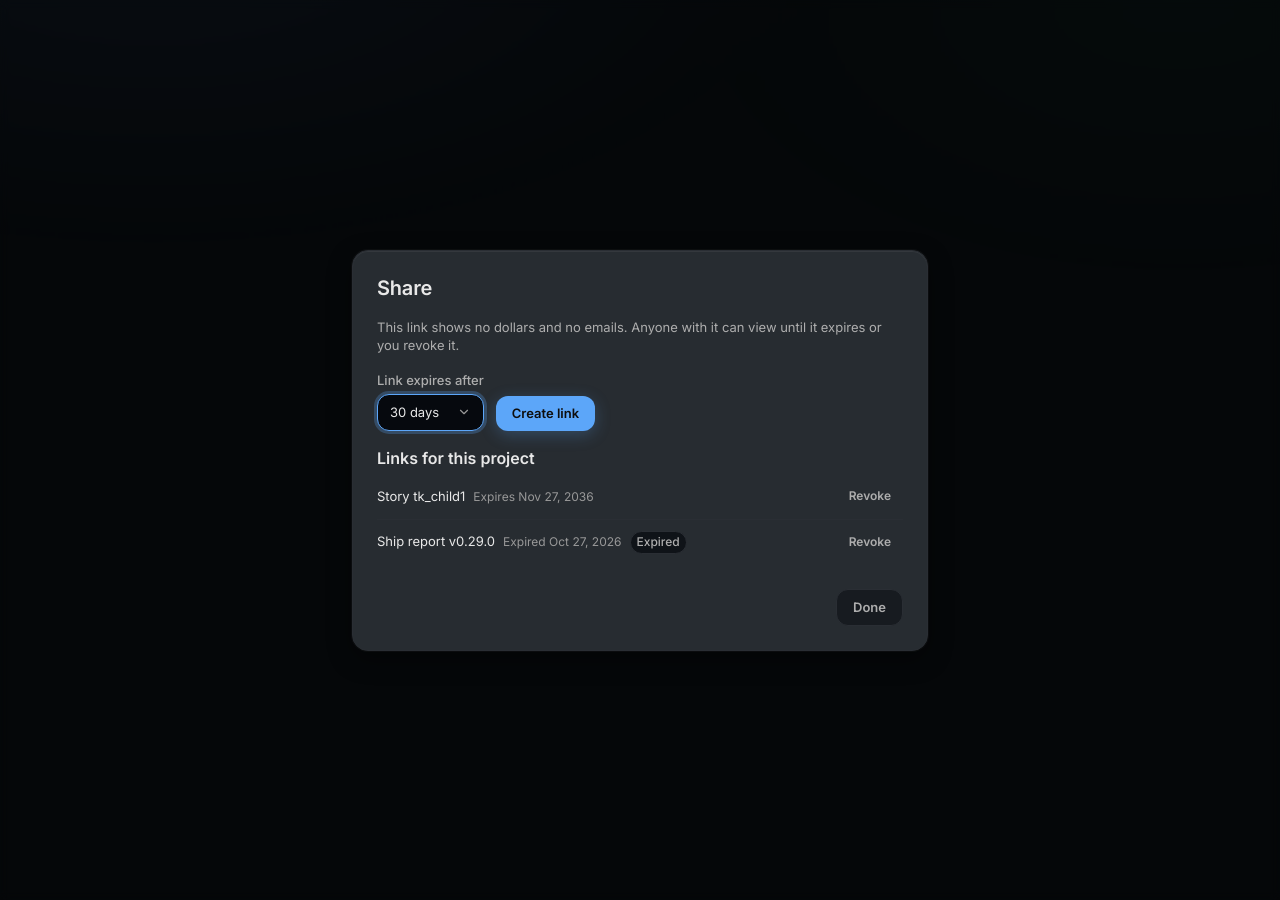
Test: Share dialog › asks before revoking and only then revokes
The image size is (1280, 900).
Check: the number of list items is 2, box [377,474,903,520]; [377,520,903,565]
What coordinates should you click on to do the following:
click the button with aria-label "Revoke Story tk_child1"
I would click on:
 (870, 496)
Its box is [837,482,903,511].
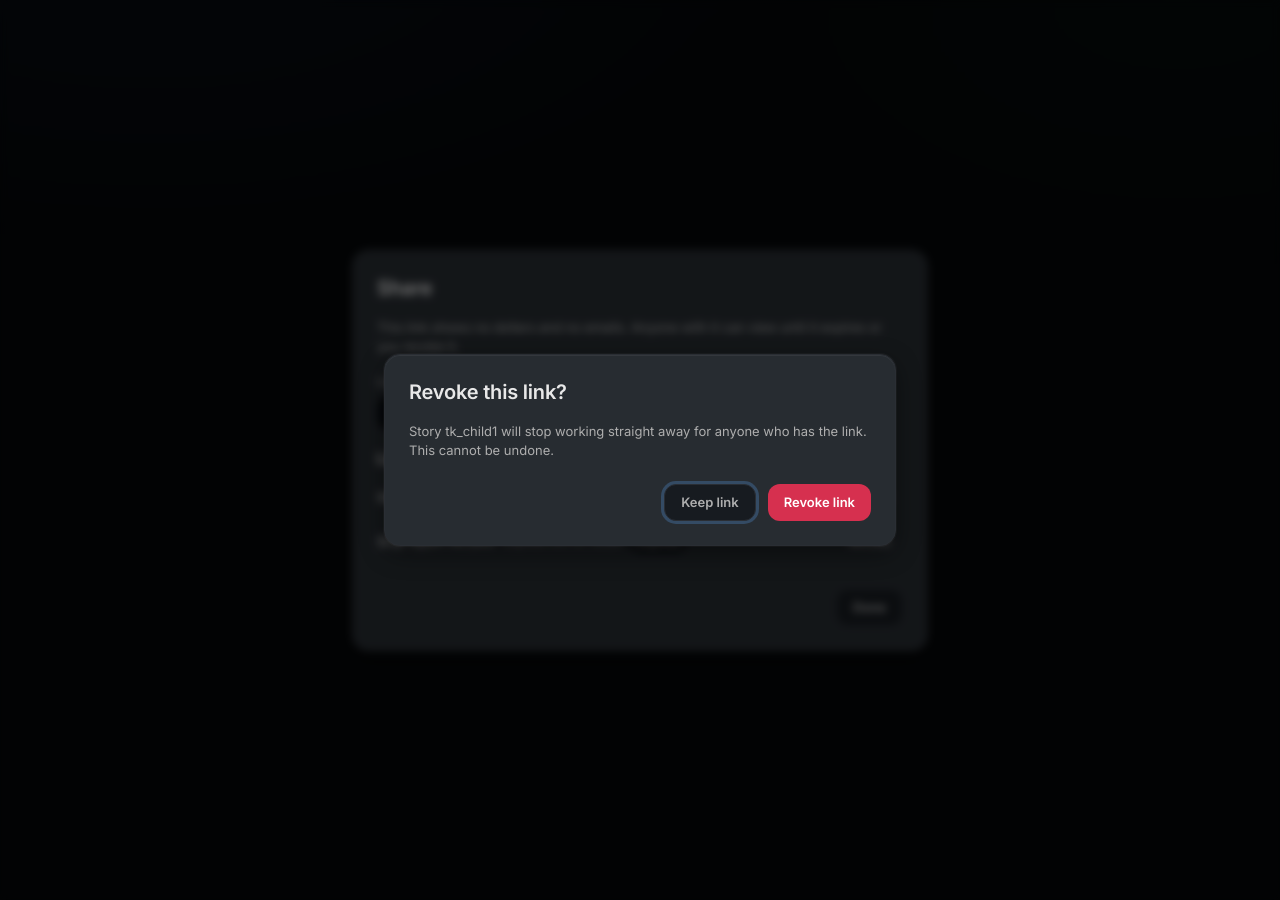
What coordinates should you click on to do the following:
click the button "Keep link"
I would click on:
 (710, 502)
Its box is [664,484,756,521].
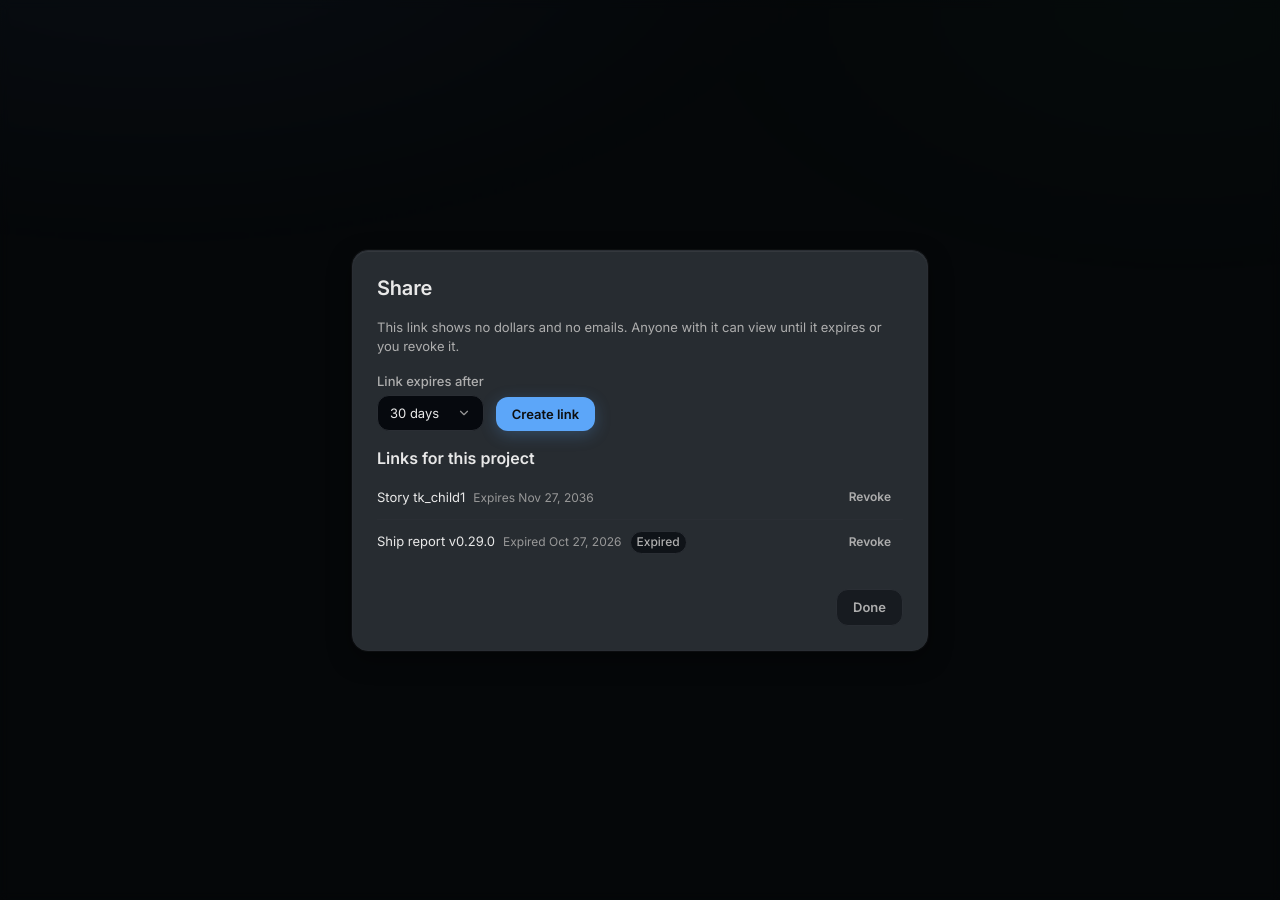
What coordinates should you click on to do the following:
click the button with aria-label "Revoke Story tk_child1"
I would click on:
 (870, 496)
Its box is [837,482,903,511].
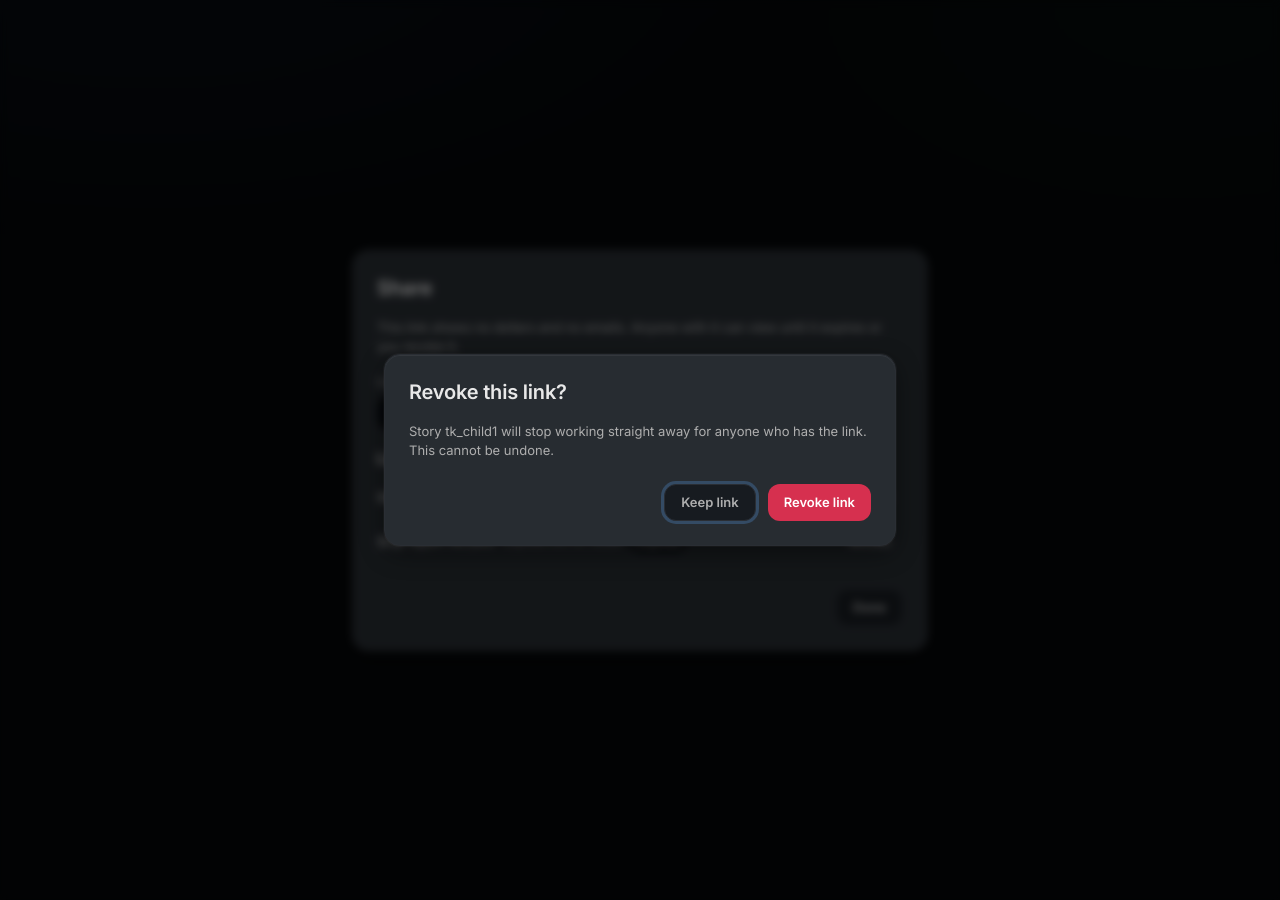
What coordinates should you click on to do the following:
click the button "Revoke link"
I would click on:
 (819, 502)
Its box is [768,484,871,521].
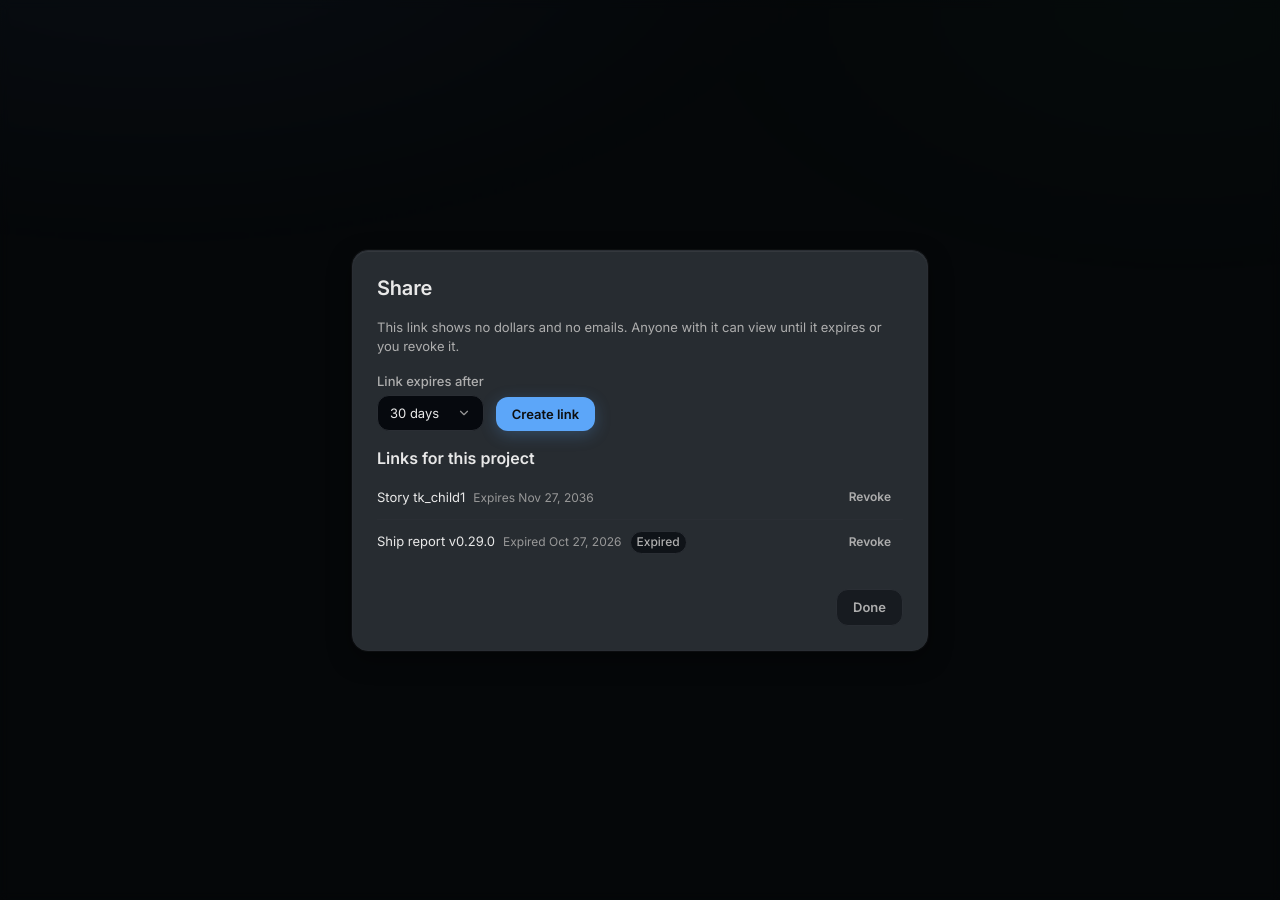
Check: the heading "Revoke this link?" is gone
